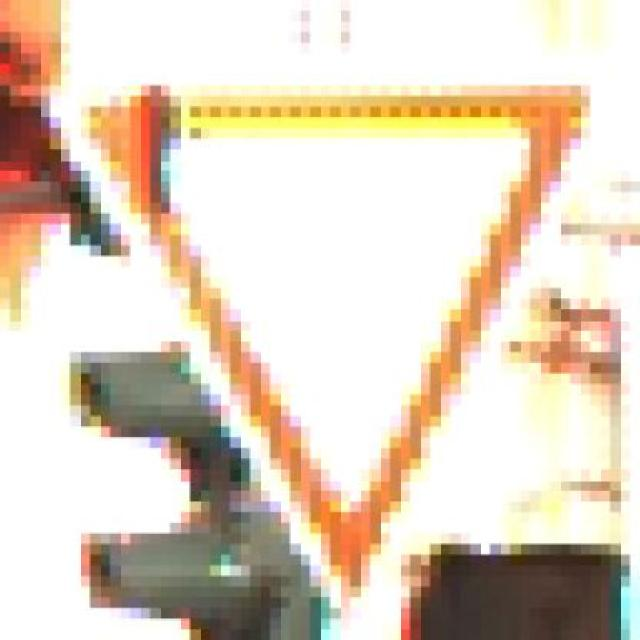Give Way: (30, 53, 590, 619)
